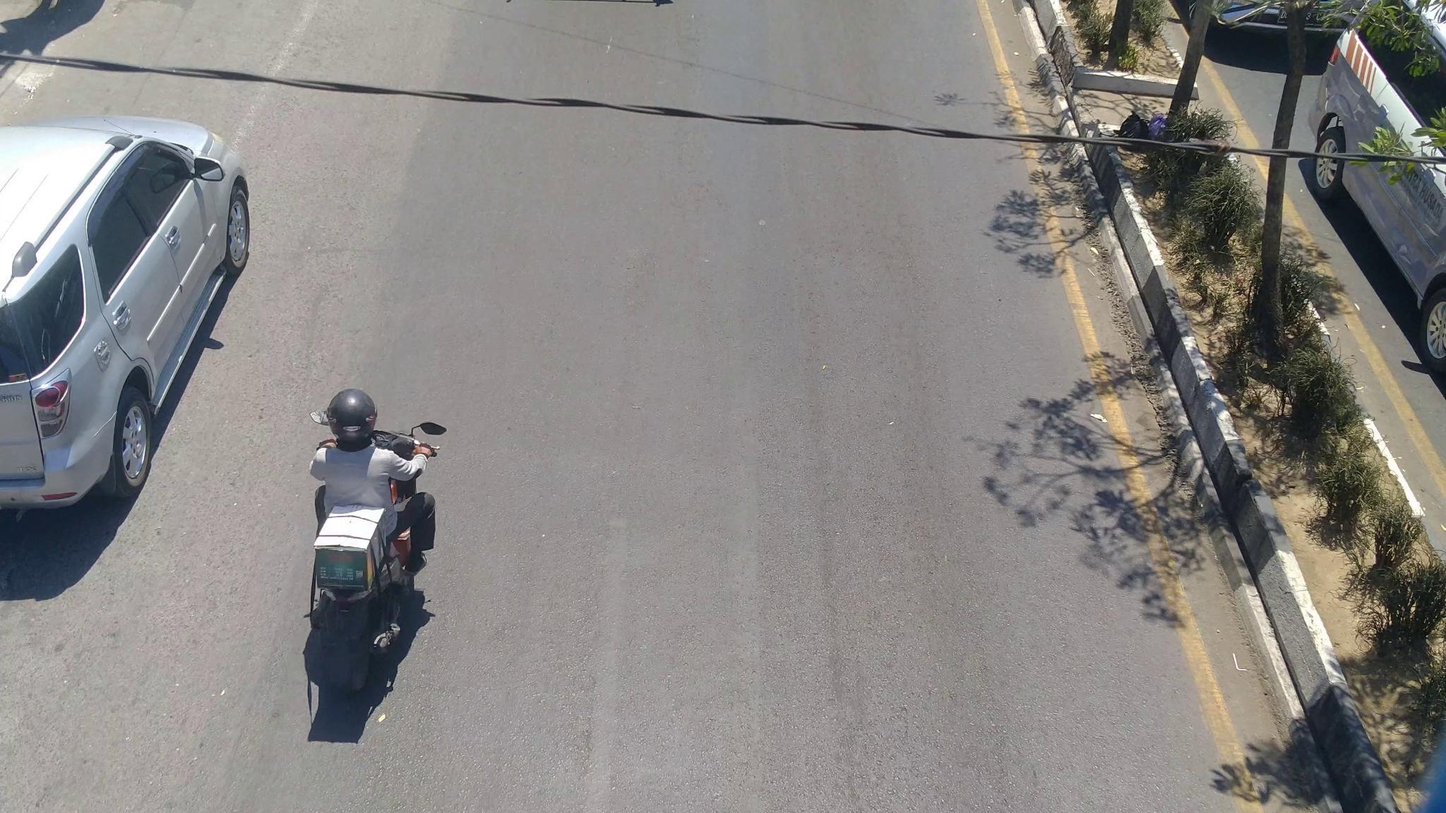Helmet: (325, 384, 383, 450)
bike: (304, 406, 446, 686)
rider: (311, 384, 438, 577)
